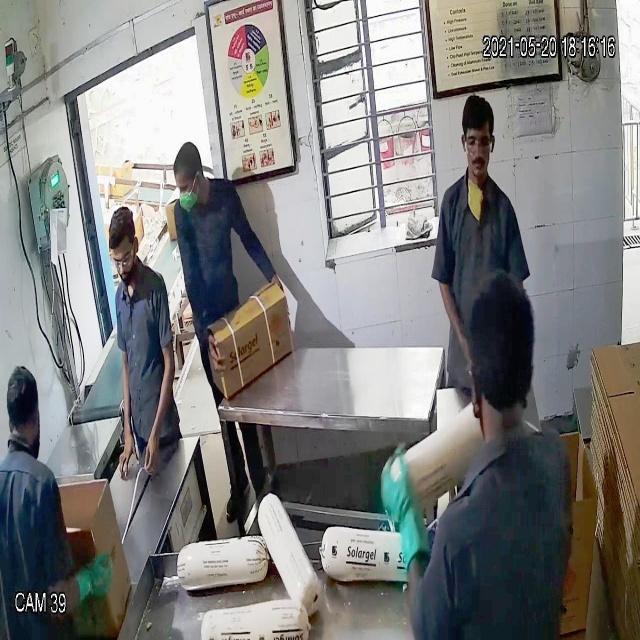Gafas: (108, 243, 137, 270)
